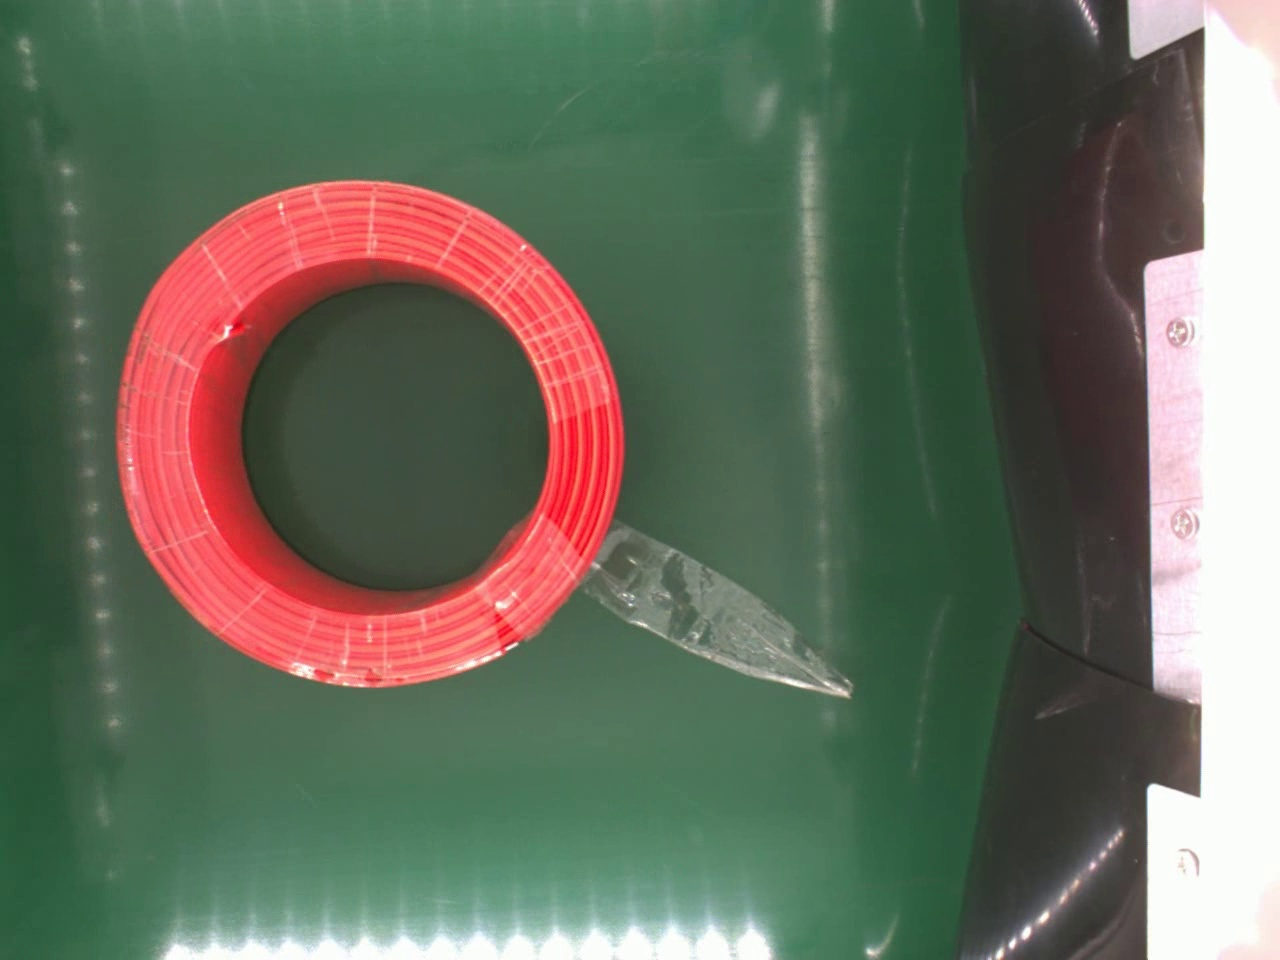red: (112, 176, 625, 693)
